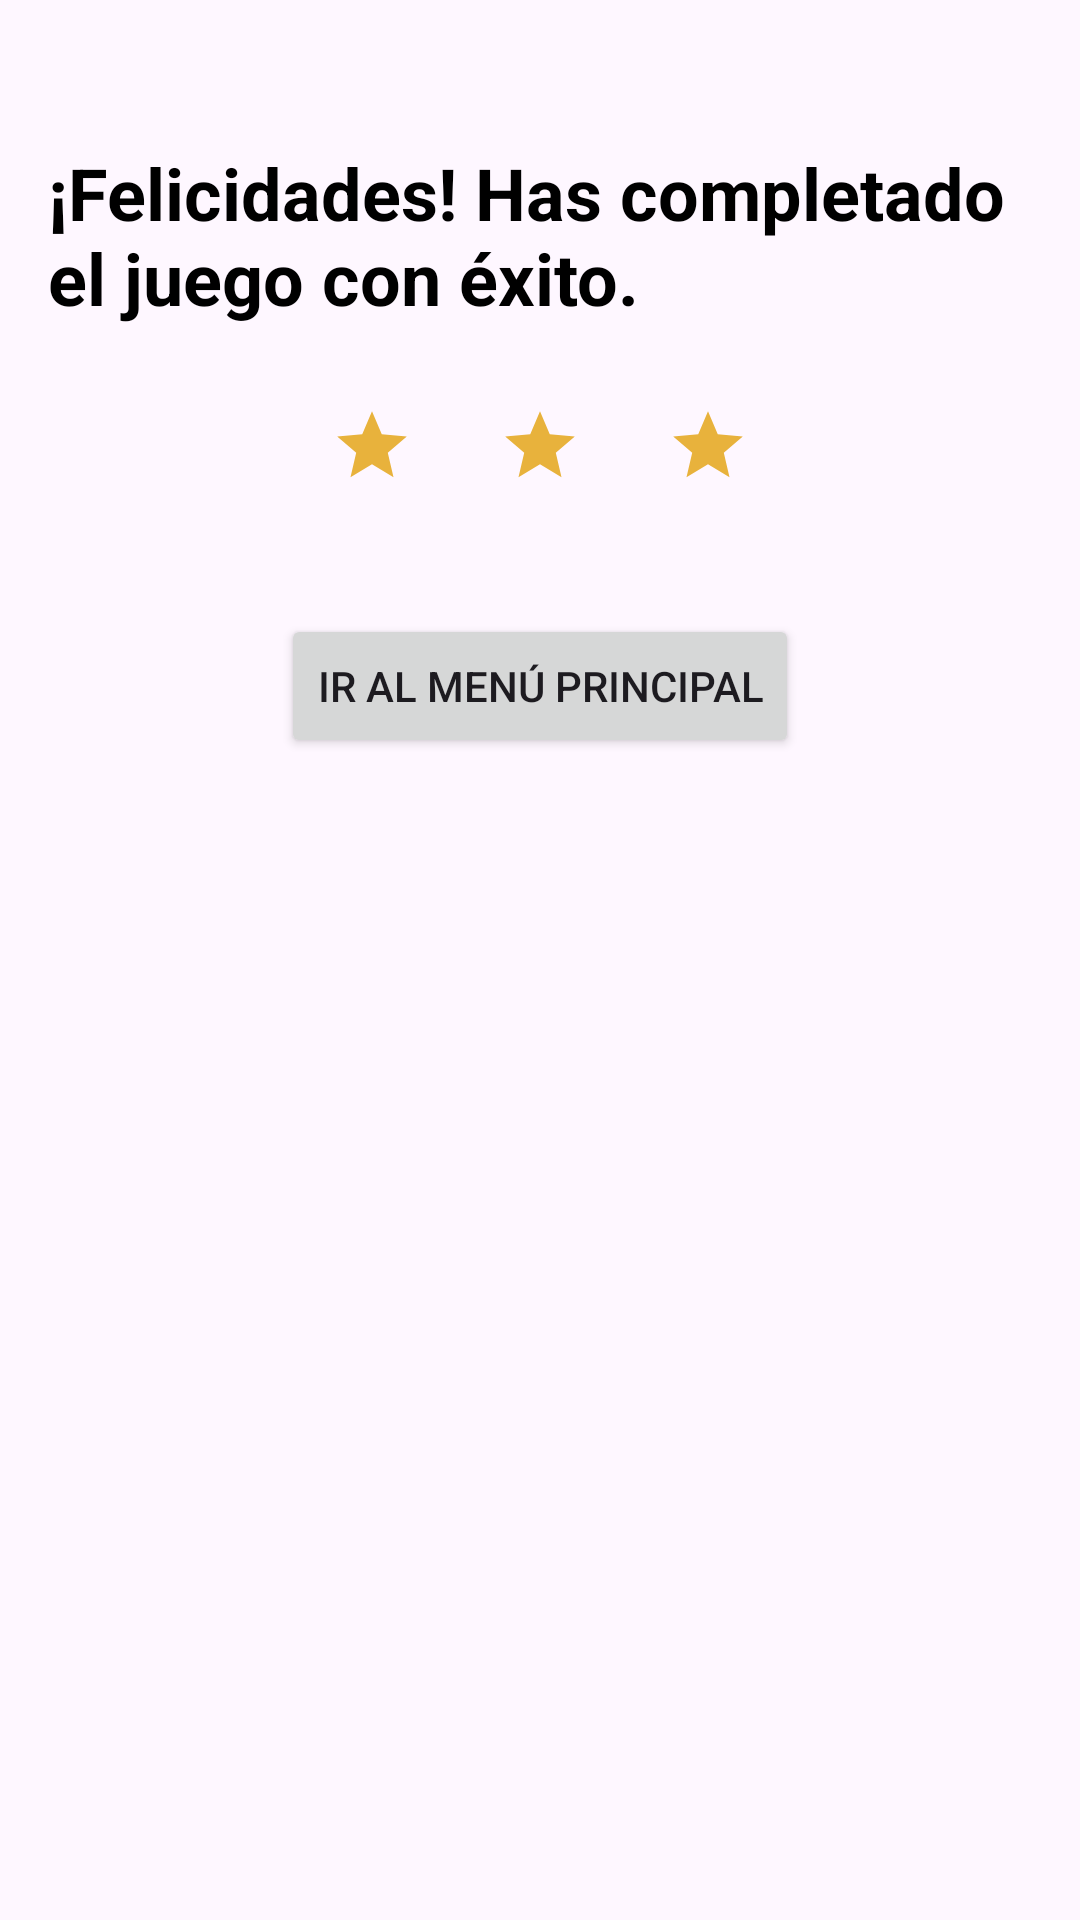

Icon bounding boxes for this 1080px x 1920px phone screenshot, format Rect(x1, y1, x2, y2):
Estrella: Rect(337, 412, 407, 477), Rect(505, 412, 575, 477), Rect(673, 412, 743, 477)
